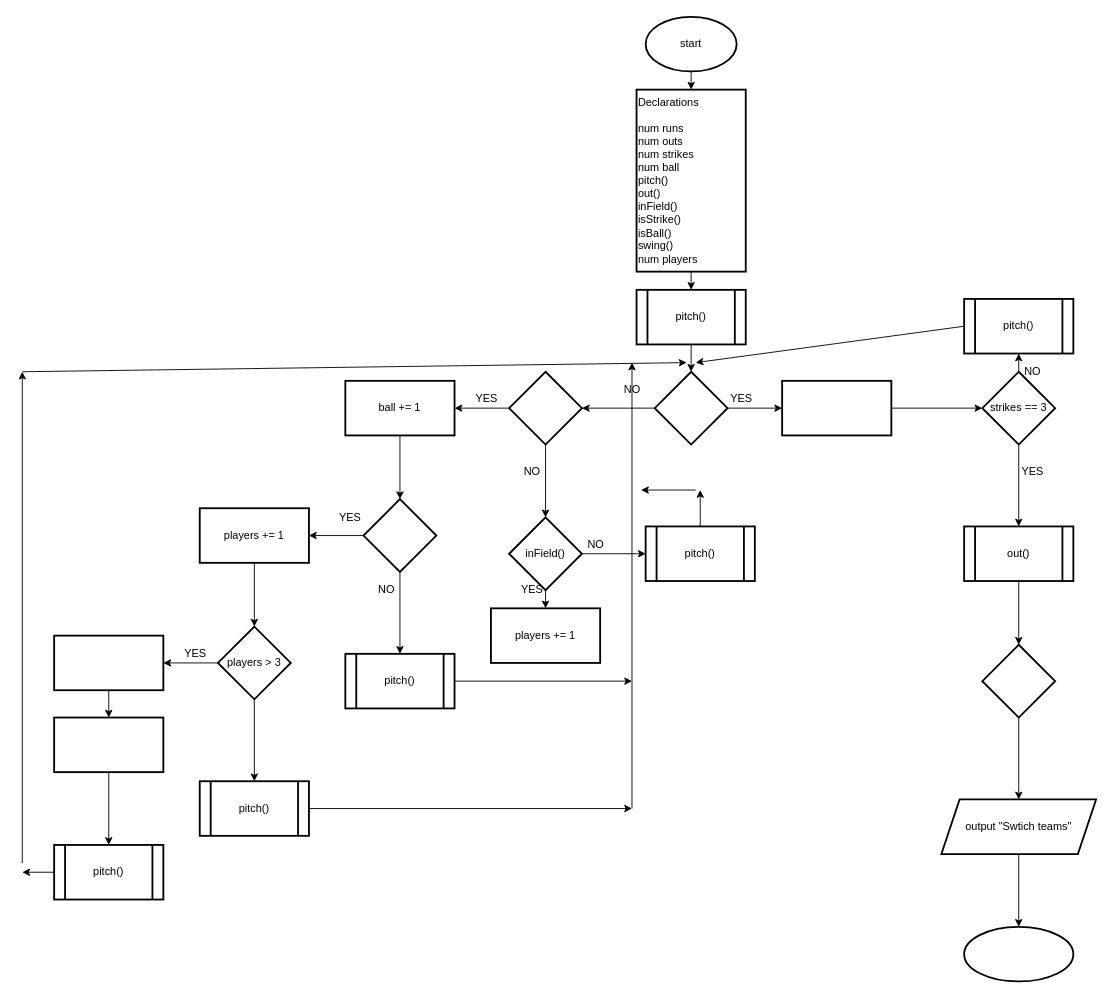
The diagram is 1113 pixels wide and 997 high, and some of its shapes have lost their labels. Each missing label, with the centre of its shape:
"ball == 4" belongs at pixel 399 535.
"isBall()" belongs at pixel 545 407.
"isStrike()" belongs at pixel 690 407.
"outs == 3" belongs at pixel 1018 680.
"players -= 1" belongs at pixel 108 744.
"runs += 1" belongs at pixel 108 662.
"stop" belongs at pixel 1018 953.
"strikes += 1" belongs at pixel 836 407.
